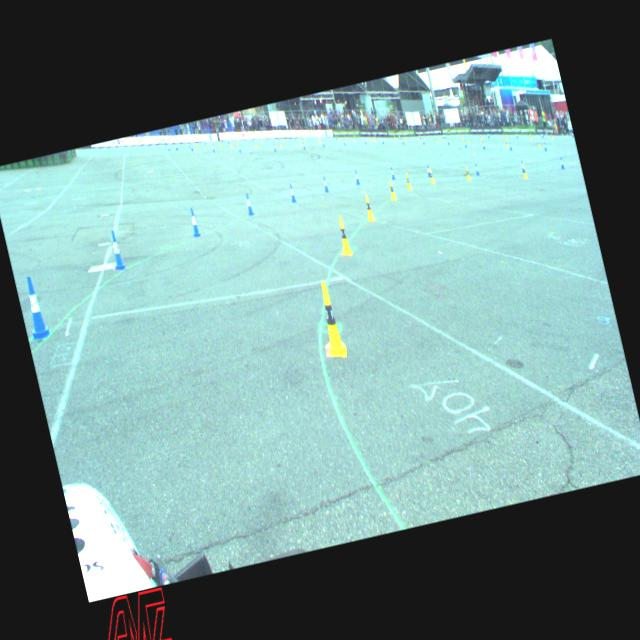blue_cone: (18, 274, 52, 340), (106, 229, 125, 270), (187, 206, 201, 238), (244, 192, 254, 216), (288, 182, 296, 202), (352, 168, 360, 184), (322, 175, 328, 192), (388, 166, 394, 179), (558, 156, 564, 169), (474, 162, 479, 175), (426, 164, 430, 177), (520, 159, 524, 172), (272, 142, 276, 152), (542, 141, 546, 150), (362, 137, 367, 144), (508, 142, 512, 150), (463, 140, 467, 148), (481, 141, 485, 149), (211, 144, 215, 152), (342, 138, 346, 146), (189, 142, 193, 150), (237, 144, 241, 151), (401, 138, 405, 144), (301, 142, 305, 148), (446, 137, 449, 144), (422, 138, 425, 144), (381, 137, 384, 143)
yellow_cone: (312, 279, 348, 361), (334, 215, 352, 257), (362, 192, 375, 222), (386, 178, 396, 200), (404, 172, 412, 190), (520, 164, 528, 178), (464, 166, 471, 180), (428, 168, 434, 183), (536, 139, 540, 148), (254, 140, 258, 148), (278, 140, 282, 148), (504, 138, 508, 146), (466, 136, 470, 144), (478, 133, 482, 140), (228, 140, 232, 147), (417, 134, 420, 141), (210, 141, 213, 148), (298, 138, 301, 144), (461, 134, 464, 140), (434, 136, 437, 142), (442, 134, 445, 140), (344, 136, 346, 142)
